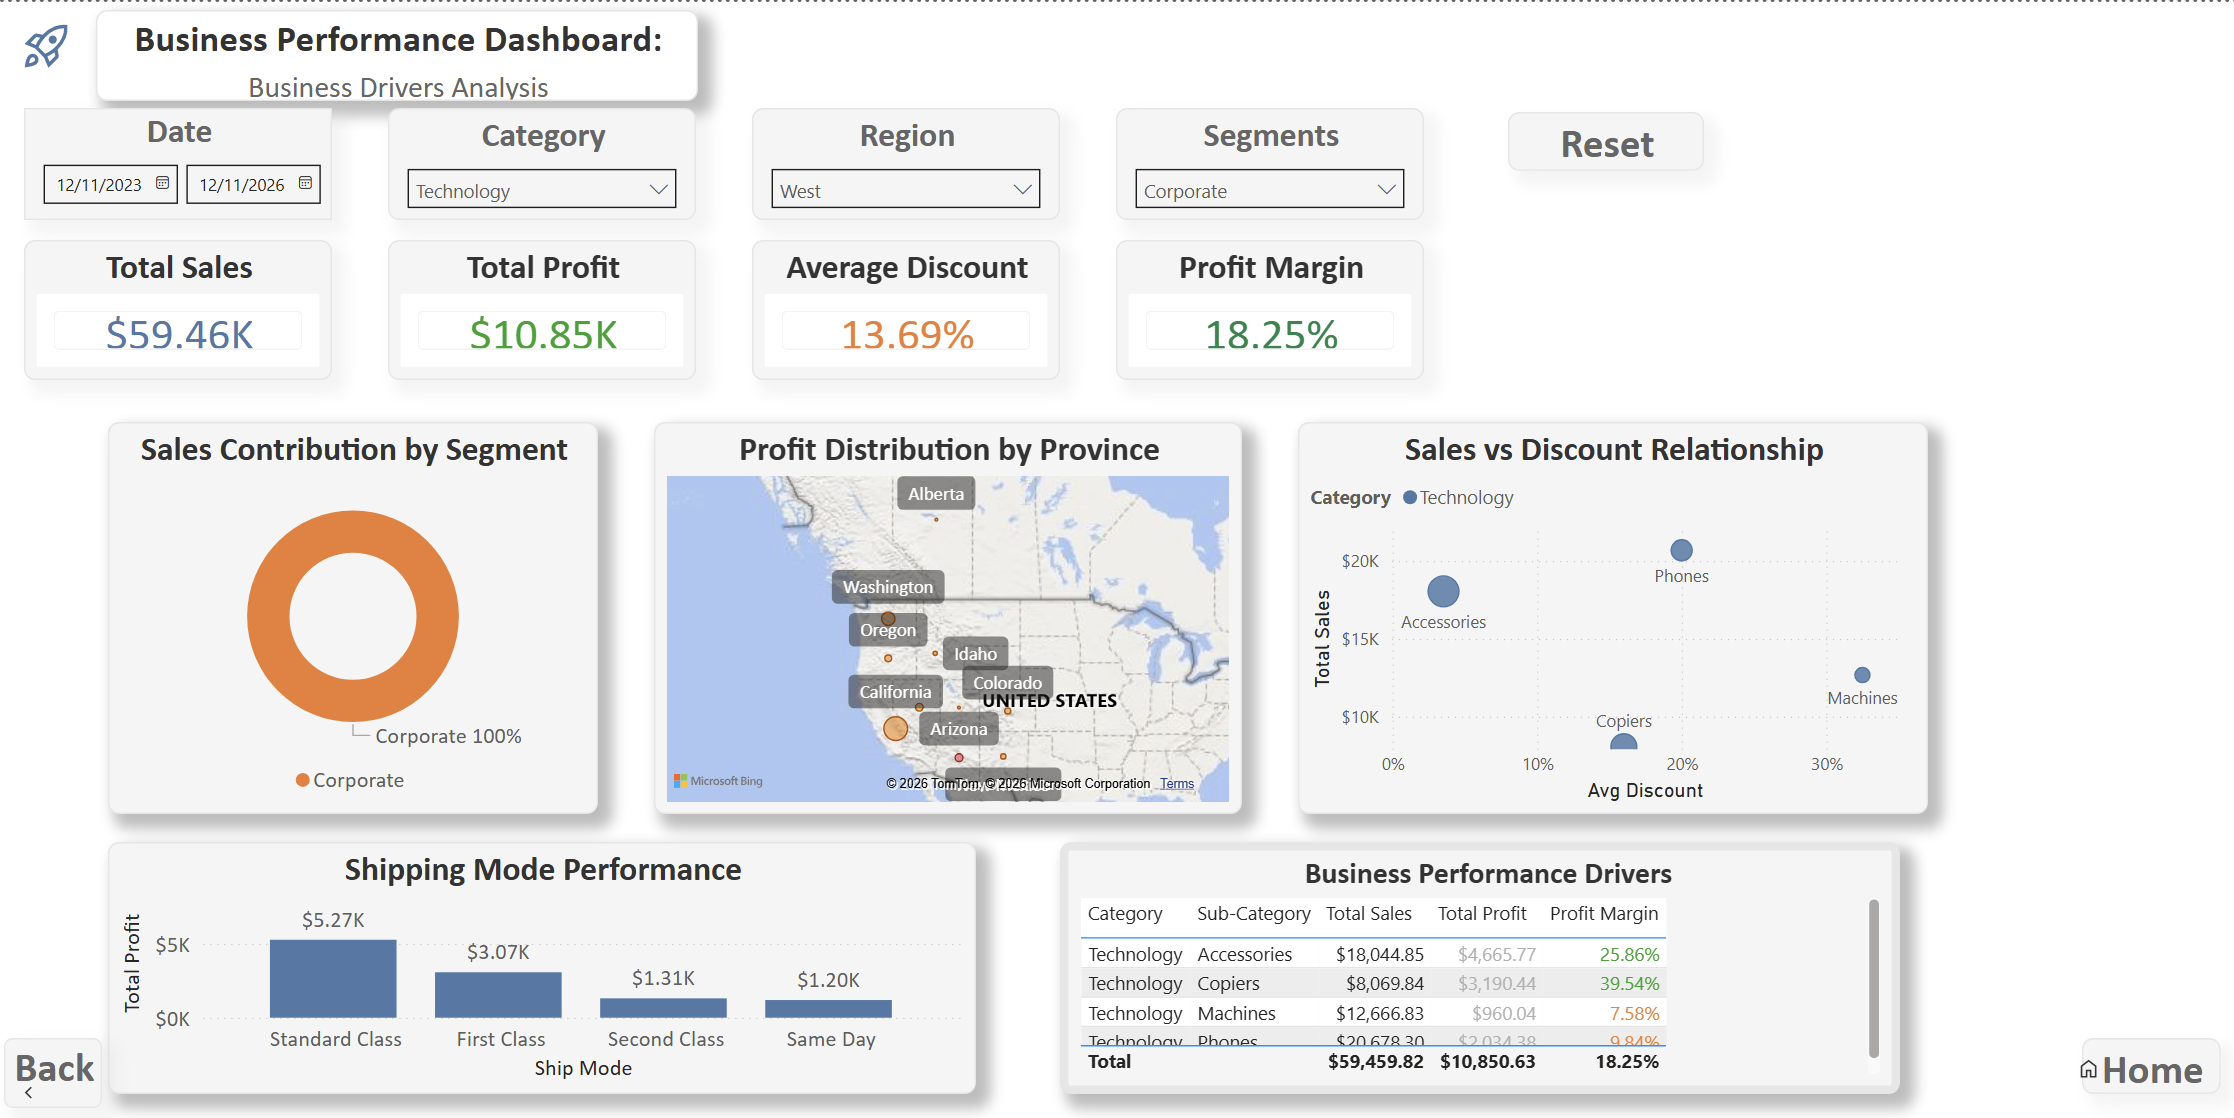

What the dashboard file says about the page in this screenshot:
{"tool":"powerbi","page":{"name":"Business Drivers Analysis","canvas":[1600,800],"ordinal":3},"visuals":[{"type":"scatterChart","title":"Sales vs Discount Relationship","fields":{"X":["samplesuperstore.Avg Discount"],"Size":["samplesuperstore.Total Profit"],"Y":["samplesuperstore.Total Sales"],"Category":["samplesuperstore.Sub-Category"],"Series":["samplesuperstore.Category"]},"box":[930,300,450,280],"z":0},{"type":"clusteredColumnChart","title":"Shipping Mode Performance","fields":{"Y":["samplesuperstore.Total Profit"],"Category":["samplesuperstore.Ship Mode"]},"box":[80,600,620,180],"z":1000},{"type":"donutChart","title":"Sales Contribution by Segment","fields":{"Category":["samplesuperstore.Segment"],"Y":["samplesuperstore.Total Sales"]},"box":[80,300,350,280],"z":2000},{"type":"map","title":"Profit Distribution by Province","fields":{"Category":["samplesuperstore.State/Province"],"Size":["samplesuperstore.Total Sales"]},"box":[470,300,420,280],"z":3000},{"type":"textbox","title":"Business Performance Dashboard:","box":[72,5,430,65],"z":4000},{"type":"slicer","title":"Date","fields":{"Values":["samplesuperstore.Order Date"]},"box":[20,75,220,80],"z":5000},{"type":"slicer","title":"Category","fields":{"Values":["samplesuperstore.Category"]},"box":[280,75,220,80],"z":6000},{"type":"slicer","title":"Region","fields":{"Values":["samplesuperstore.Region"]},"box":[540,75,220,80],"z":7000},{"type":"slicer","title":"Segments","fields":{"Values":["samplesuperstore.Segment"]},"box":[800,75,220,80],"z":8000},{"type":"cardVisual","title":"Total Sales","fields":{"Data":["samplesuperstore.Total Sales"]},"box":[20,170,220,100],"z":9000},{"type":"cardVisual","title":"Total Profit","fields":{"Data":["samplesuperstore.Total Profit"]},"box":[280,170,220,100],"z":10000},{"type":"cardVisual","title":"Average Discount","fields":{"Data":["samplesuperstore.Avg Discount"]},"box":[540,170,220,100],"z":11000},{"type":"cardVisual","title":"Profit Margin","fields":{"Data":["samplesuperstore.Profit Margin"]},"box":[800,170,220,100],"z":12000},{"type":"tableEx","title":"Business Performance Drivers","fields":{"Values":["samplesuperstore.Category","samplesuperstore.Sub-Category","samplesuperstore.Total Sales","samplesuperstore.Total Profit","samplesuperstore.Profit Margin"]},"box":[760,600,600,180],"z":13000},{"type":"actionButton","title":"Back","box":[5,740,70,50],"z":14000},{"type":"actionButton","title":"Home","box":[1490,740,99,40],"z":15000},{"type":"actionButton","title":"Reset","box":[1080,78,140,42],"z":16000},{"type":"image","box":[15,12,40,40],"z":17000},{"type":"image","box":[1486,753,18,18],"z":18000},{"type":"image","box":[14,770,18,18],"z":19000}]}

Visuals, with their boxes in screenshot pixels (x1, y1, x2, y2), scaled from the page's 1600x800 canvas onto the 2234x1118 screenshot:
"Sales vs Discount Relationship" scatterChart: crop(1299, 419, 1927, 811)
"Shipping Mode Performance" clusteredColumnChart: crop(112, 838, 977, 1090)
"Sales Contribution by Segment" donutChart: crop(112, 419, 600, 811)
"Profit Distribution by Province" map: crop(656, 419, 1243, 811)
"Business Performance Dashboard:" textbox: crop(101, 7, 701, 98)
"Date" slicer: crop(28, 105, 335, 217)
"Category" slicer: crop(391, 105, 698, 217)
"Region" slicer: crop(754, 105, 1061, 217)
"Segments" slicer: crop(1117, 105, 1424, 217)
"Total Sales" cardVisual: crop(28, 238, 335, 377)
"Total Profit" cardVisual: crop(391, 238, 698, 377)
"Average Discount" cardVisual: crop(754, 238, 1061, 377)
"Profit Margin" cardVisual: crop(1117, 238, 1424, 377)
"Business Performance Drivers" tableEx: crop(1061, 838, 1899, 1090)
"Back" actionButton: crop(7, 1034, 105, 1104)
"Home" actionButton: crop(2080, 1034, 2219, 1090)
"Reset" actionButton: crop(1508, 109, 1703, 168)
image: crop(21, 17, 77, 73)
image: crop(2075, 1052, 2100, 1077)
image: crop(20, 1076, 45, 1101)
